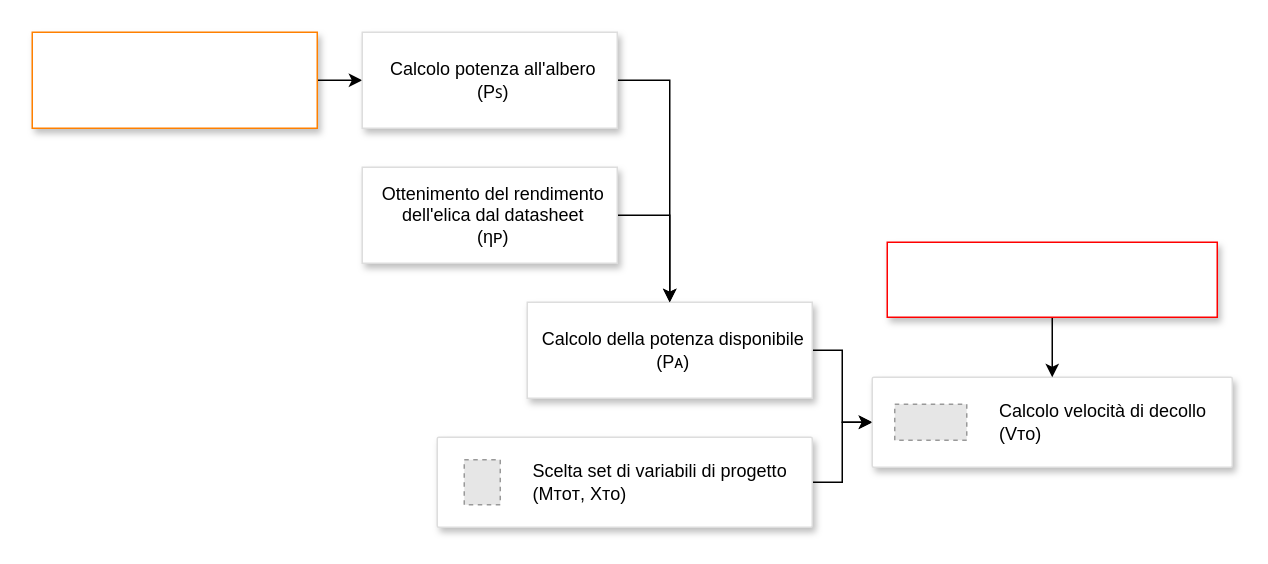
Some shapes in this 1268 by 564 pixel diagram are drawn without their labels. Grey dashed boxes stand in for pictures. The centre of each missing label's shape, as x and y in pixels:
"Ipotesi di drag trascurabile Ipotesi di attrito volvente trascurabile" goes at (1053,281).
"Simulazione potenza elettrica e rendimento motore su eCalc (Pᴇ, ηᴍ)" goes at (175,82).
